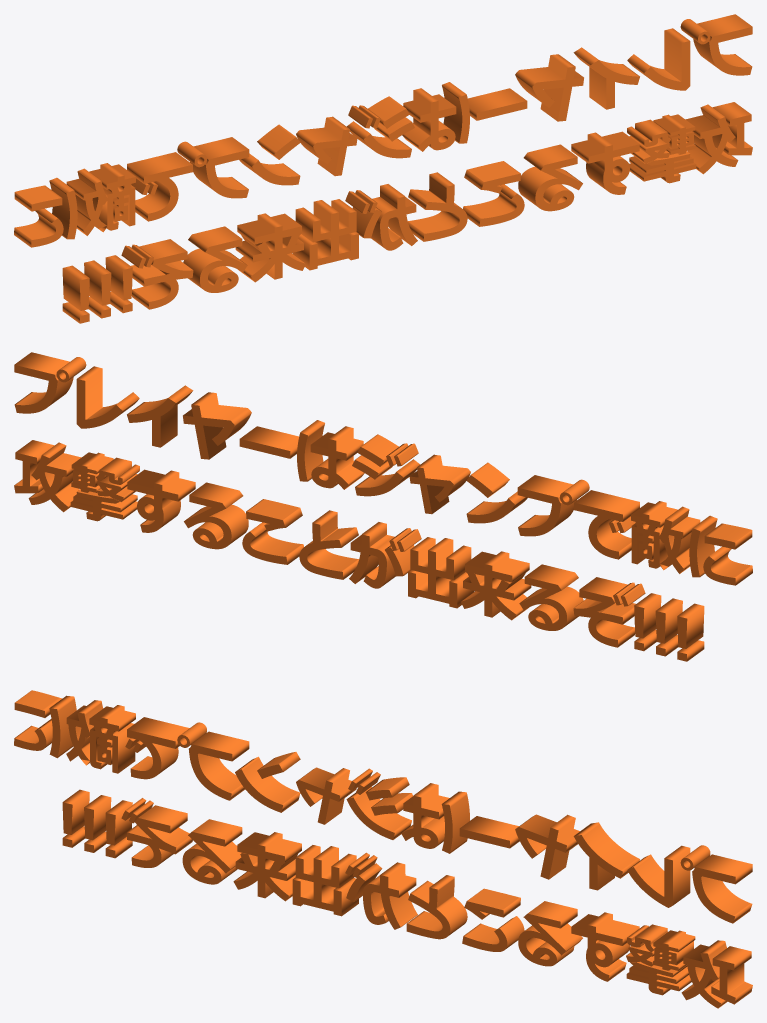
The model's file is ExplainText.obj.
3 views of the same model, one above another, from view 1: azimuth 30°, elevation 25°; view 2: azimuth 150°, elevation 25°; view 3: azimuth 330°, elevation 25° (orthographic).
Parts seen in each view (by area): view 1: テキスト; view 2: テキスト; view 3: テキスト.
Boxes of the visible parts, x1,y1,x2,y2 form: テキスト: (14,14,752,323); テキスト: (14,352,752,661); テキスト: (14,690,752,1008).
Bounding box in the file's own units: 21.8 × 4.13 × 0.9.
1 material, 1 textured.
